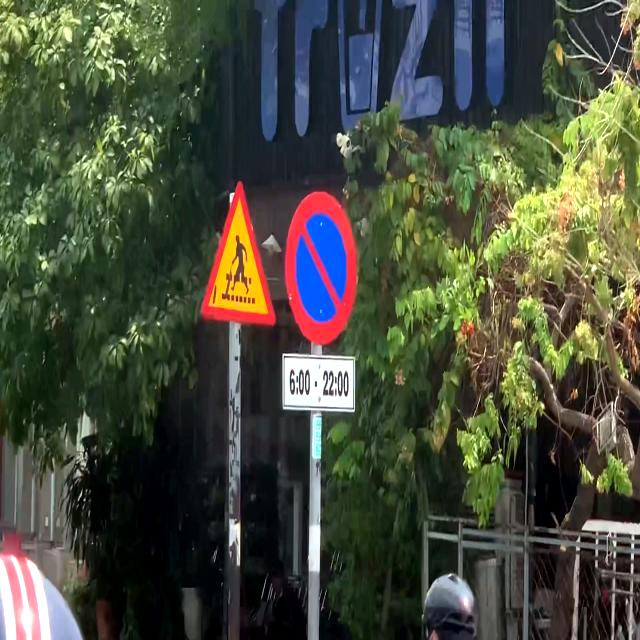Cam do xe: (284, 190, 358, 346)
Nguoi di bo cat ngang: (199, 178, 278, 328)
